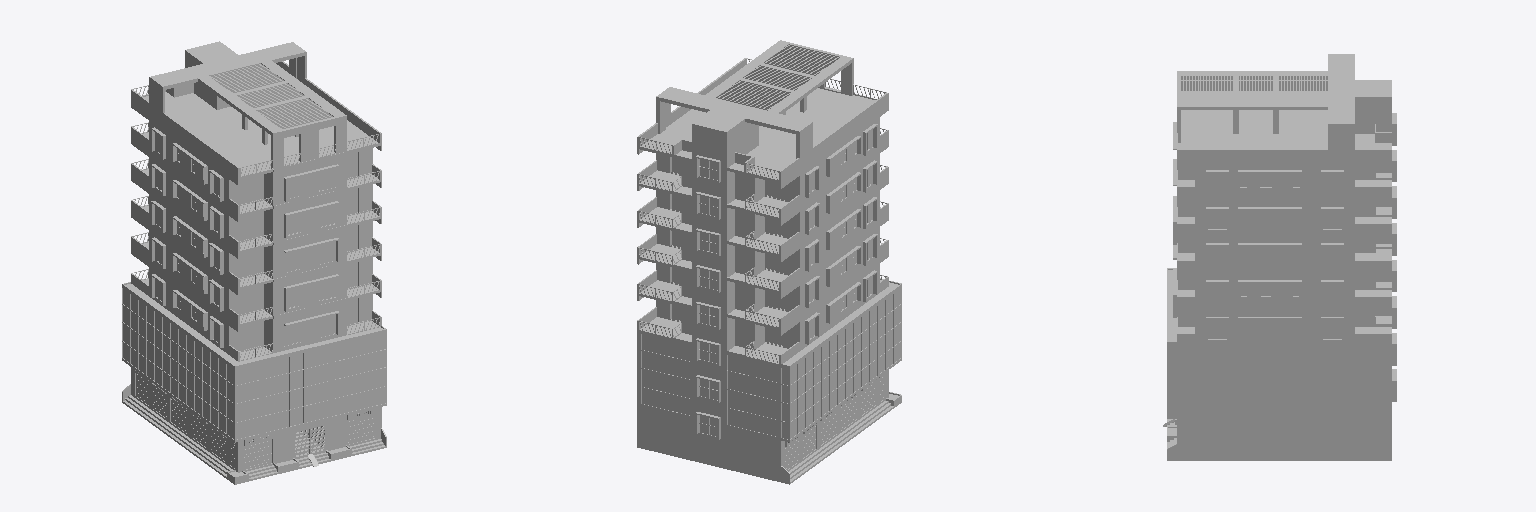
Rendered from Mixed Use Building_2_OBJ.obj.
3 renders of one model, left to right at view 1: azimuth 30°, elevation 25°; view 2: azimuth 150°, elevation 25°; view 3: azimuth 270°, elevation 25°, orthographic.
Parts seen in each view (by area): view 1: WINDOW_002, WALL_002, WALL_001, ROOF, DESIGN, ROOF_004, BALCONY, ROOF_001, WINDOW, DOOR, GROUND_FLOOR_004, GROUND_FLOOR_008 (+4 smaller); view 2: WALL_001, WINDOW_002, ROOF, BALCONY, DESIGN, ROOF_001, GROUND_FLOOR_001, ROOF_004, WALL_003, GROUND_FLOOR_004, PLANTER, WINDOW_001 (+6 smaller); view 3: WALL_002, WINDOW_002, ROOF, GROUND_FLOOR_001, ROOF_004, BALCONY, WINDOW, DESIGN, ROOF_001, GROUND_FLOOR_004, WALL_001, PLANTER.
Boxes of the visible parts, box(x1,y1,x2,y2) form: WINDOW_002: box(122, 287, 386, 440); WALL_002: box(229, 137, 372, 352); WALL_001: box(149, 93, 228, 354); ROOF: box(131, 41, 381, 178); DESIGN: box(151, 127, 346, 347); ROOF_004: box(131, 90, 381, 185); BALCONY: box(131, 126, 381, 361); ROOF_001: box(198, 60, 343, 134); WINDOW: box(155, 132, 335, 346); DOOR: box(243, 151, 358, 350); GROUND_FLOOR_004: box(122, 384, 386, 484); GROUND_FLOOR_008: box(135, 373, 376, 469); WALL_001: box(656, 110, 879, 351); WINDOW_002: box(641, 287, 901, 440); ROOF: box(637, 40, 888, 181); BALCONY: box(637, 130, 888, 366); DESIGN: box(695, 124, 877, 439); ROOF_001: box(705, 42, 851, 113); GROUND_FLOOR_001: box(637, 370, 888, 474); ROOF_004: box(637, 88, 888, 188); WALL_003: box(692, 161, 726, 424); GROUND_FLOOR_004: box(637, 392, 901, 484); PLANTER: box(673, 185, 901, 368); WINDOW_001: box(699, 159, 717, 437); WALL_002: box(1177, 91, 1354, 416); WINDOW_002: box(1167, 345, 1385, 416); ROOF: box(1177, 54, 1391, 159); GROUND_FLOOR_001: box(1177, 417, 1391, 453); ROOF_004: box(1177, 91, 1391, 167); BALCONY: box(1177, 179, 1391, 344); WINDOW: box(1207, 173, 1342, 339); DESIGN: box(1173, 113, 1396, 401); ROOF_001: box(1181, 71, 1327, 109); GROUND_FLOOR_004: box(1163, 419, 1391, 460); WALL_001: box(1355, 134, 1391, 326); PLANTER: box(1167, 173, 1391, 344).
Size of the model in its own units: 534 by 1104 by 692.